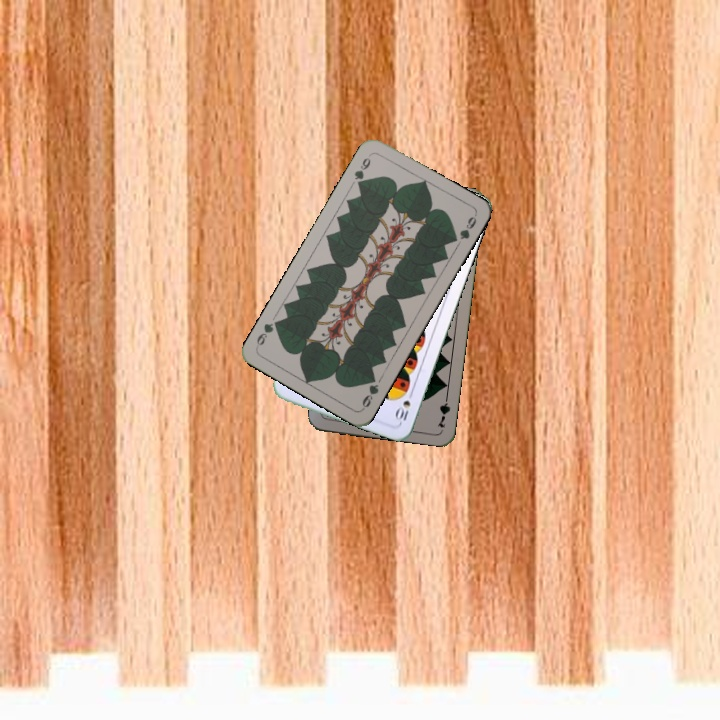G7: (433, 390, 453, 430)
G9: (358, 372, 381, 412), (350, 150, 373, 190)
S10: (392, 386, 416, 423)
